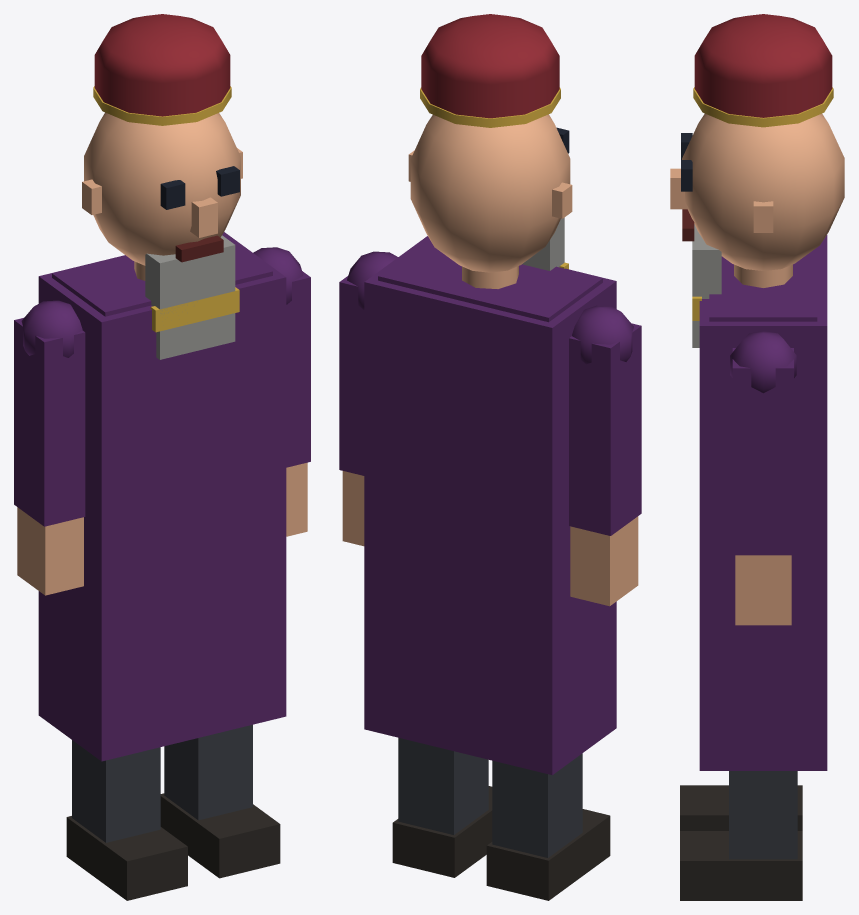
File: theodoros.glb
3 views of the same model, side by side, from view 1: azimuth 30°, elevation 25°; view 2: azimuth 150°, elevation 25°; view 3: azimuth 270°, elevation 25° (orthographic).
Visible parts, largest first — view 1: Body, Head, ArmR, LegR, Hat, LegL, ArmL, Mouth; view 2: Body, Head, ArmR, Hat, LegR, LegL, ArmL; view 3: Body, Head, ArmL, Hat, LegL, LegR, Mouth.
Boxes of the visible parts, x1,y1,x2,y2 form: Body: (38, 232, 286, 761); Head: (82, 112, 242, 359); ArmR: (14, 300, 85, 595); LegR: (66, 740, 187, 900); Hat: (93, 14, 231, 125); LegL: (160, 724, 280, 878); ArmL: (253, 247, 310, 536); Mouth: (175, 235, 223, 262); Body: (364, 236, 616, 775); Head: (408, 114, 572, 272); ArmR: (569, 305, 641, 606); Hat: (420, 14, 560, 127); LegR: (486, 753, 610, 900); LegL: (392, 737, 492, 877); ArmL: (339, 251, 397, 546); Body: (692, 235, 827, 770); Head: (670, 113, 844, 347); ArmL: (730, 331, 796, 625); Hat: (693, 14, 833, 127); LegL: (680, 771, 802, 900); LegR: (680, 785, 802, 830); Mouth: (682, 209, 694, 241).
Size of the model in its own units: 0.6556 by 1.89 by 0.3557.
